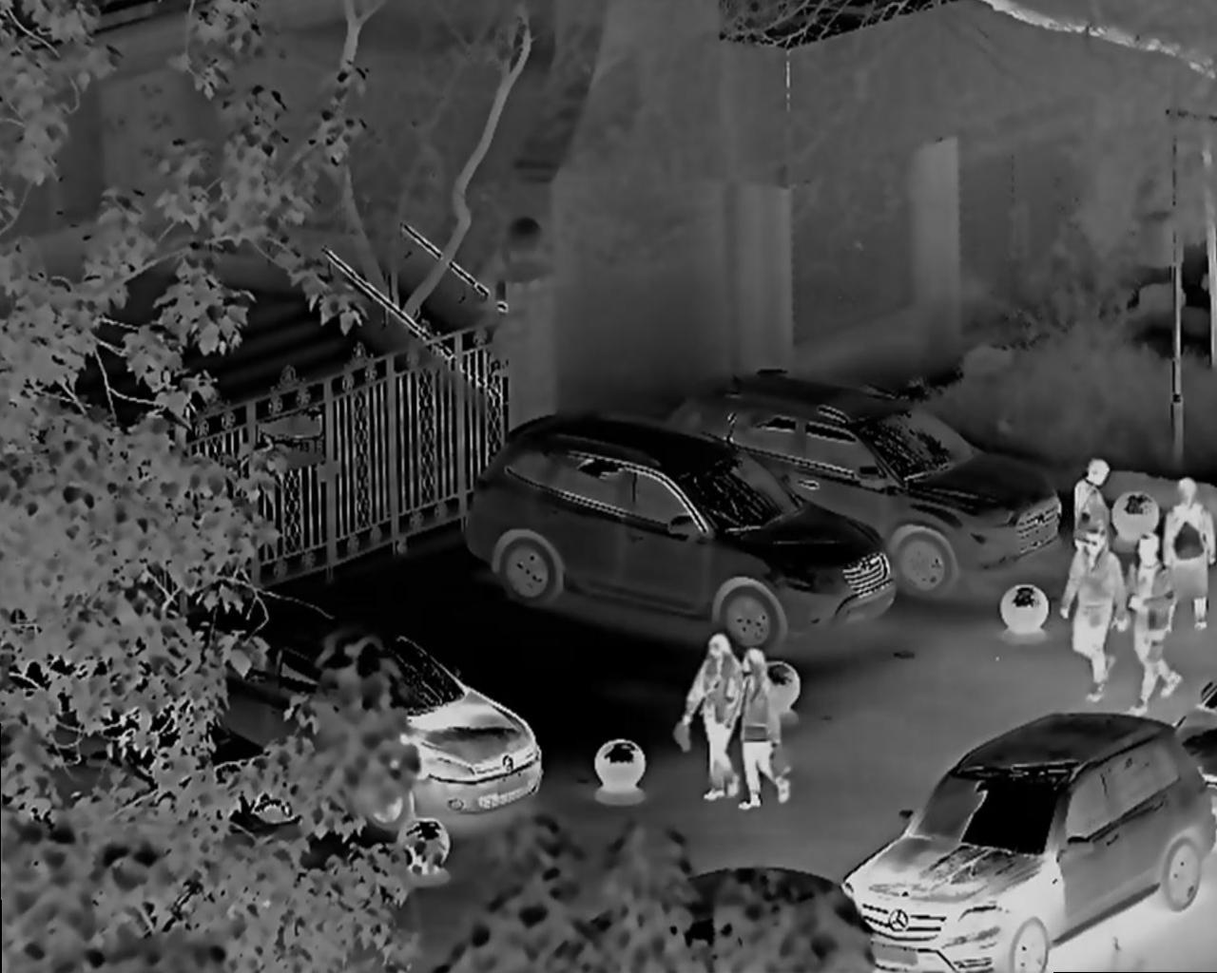person: (674, 630, 741, 820), (728, 646, 792, 811), (1066, 529, 1111, 697), (1166, 472, 1208, 626), (1130, 544, 1173, 690), (1066, 459, 1125, 563)
